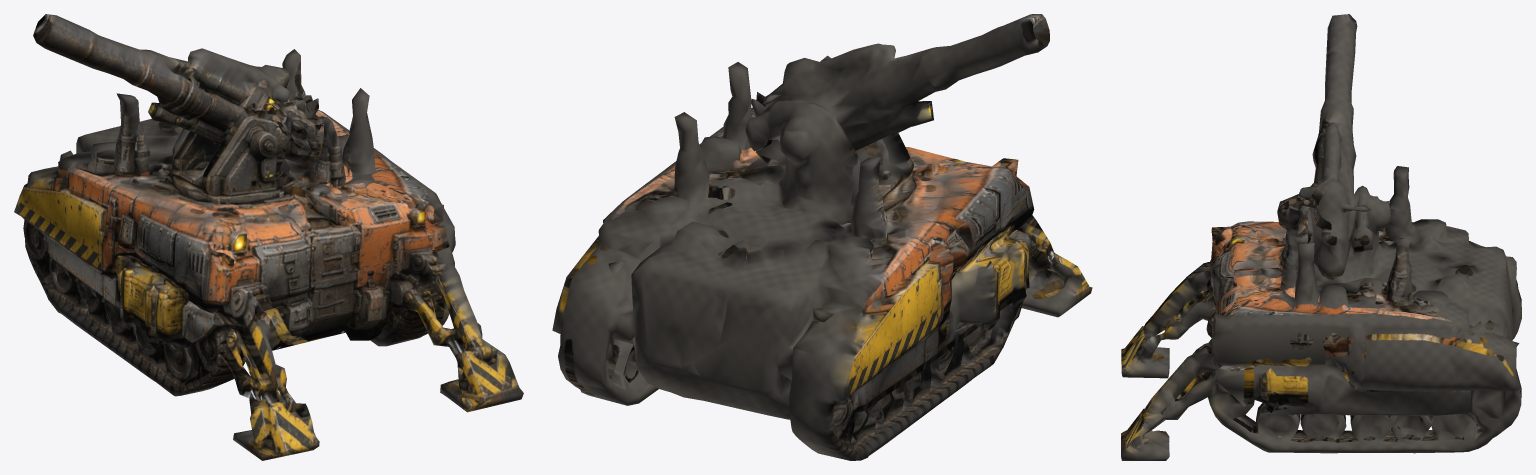
File: thumper_lod1.glb
3 views of the same model, side by side, from view 1: azimuth 30°, elevation 25°; view 2: azimuth 150°, elevation 25°; view 3: azimuth 270°, elevation 25° (orthographic). The views are drawn at different scales.
Parts seen in each view (by area): view 1: geometry_0; view 2: geometry_0; view 3: geometry_0.
Boxes of the visible parts, x1,y1,x2,y2 form: geometry_0: [14, 14, 523, 460]; geometry_0: [552, 14, 1092, 460]; geometry_0: [1121, 14, 1521, 460].
Size of the model in its own units: 1.7 by 1.69 by 1.99.
Materials: 1 (1 with a texture image).
